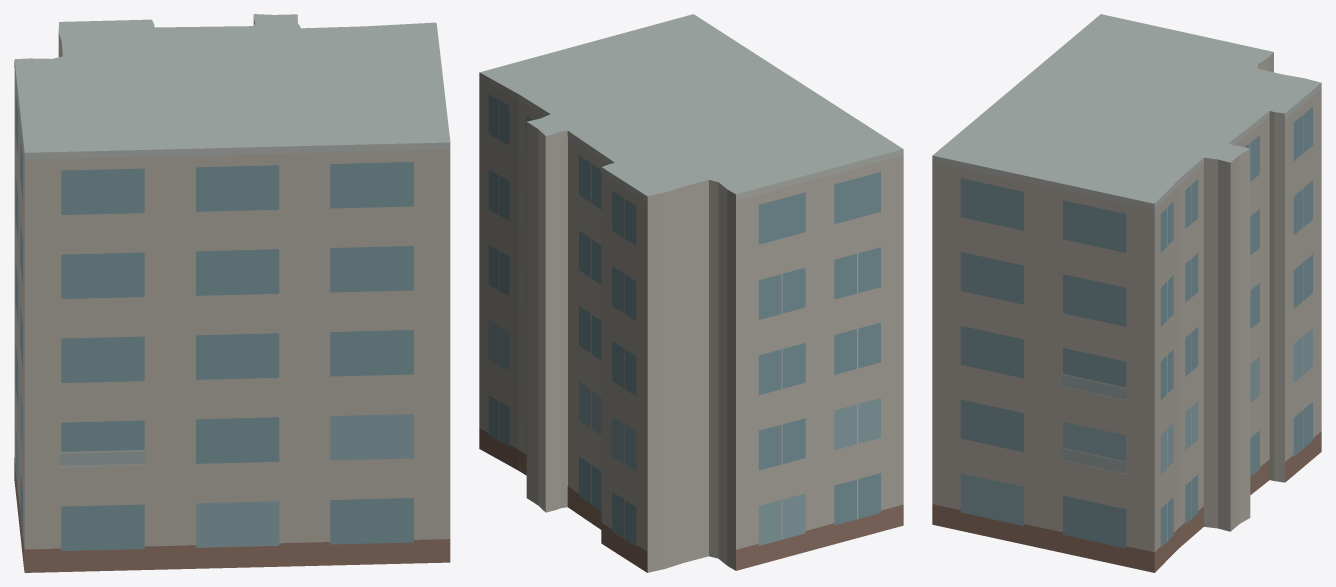
Rendered from survey-upis-32886813.glb.
3 views of the same model, side by side, from view 1: azimuth 30°, elevation 25°; view 2: azimuth 150°, elevation 25°; view 3: azimuth 270°, elevation 25° (orthographic). The views are drawn at different scales.
Parts seen in each view (by area): view 1: survey-upis-32886813.tmp; view 2: survey-upis-32886813.tmp; view 3: survey-upis-32886813.tmp.
Part boxes in pixels (bbox=[...]): survey-upis-32886813.tmp: bbox=[14, 14, 450, 572]; survey-upis-32886813.tmp: bbox=[479, 14, 903, 572]; survey-upis-32886813.tmp: bbox=[932, 14, 1321, 572].
Bounding box in the file's own units: 16.11 × 14.6 × 13.96.
